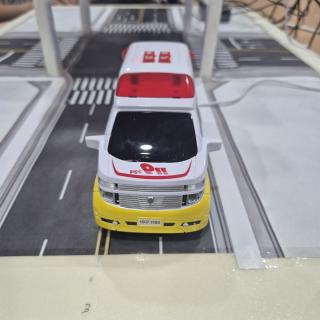Ambulance: (85, 41, 222, 233)
